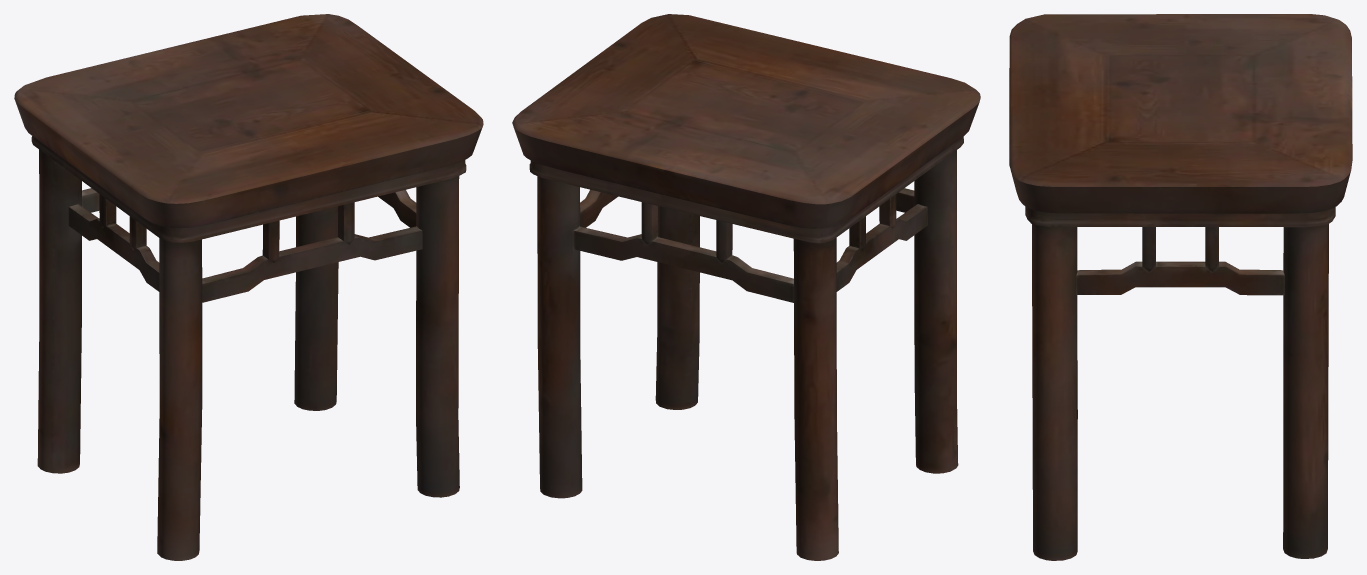
The model's file is stool-chinese.glb.
3 renders of one model, left to right at view 1: azimuth 30°, elevation 25°; view 2: azimuth 150°, elevation 25°; view 3: azimuth 270°, elevation 25°, orthographic. The views are drawn at different scales.
Visible parts, largest first — view 1: chinese_stool; view 2: chinese_stool; view 3: chinese_stool.
Boxes of the visible parts, x1,y1,x2,y2 form: chinese_stool: (14, 14, 483, 560); chinese_stool: (512, 14, 980, 560); chinese_stool: (1009, 14, 1352, 560).
Size of the model in its own units: 0.599 by 0.6306 by 0.5064.
Materials: 1 (1 with a texture image).
